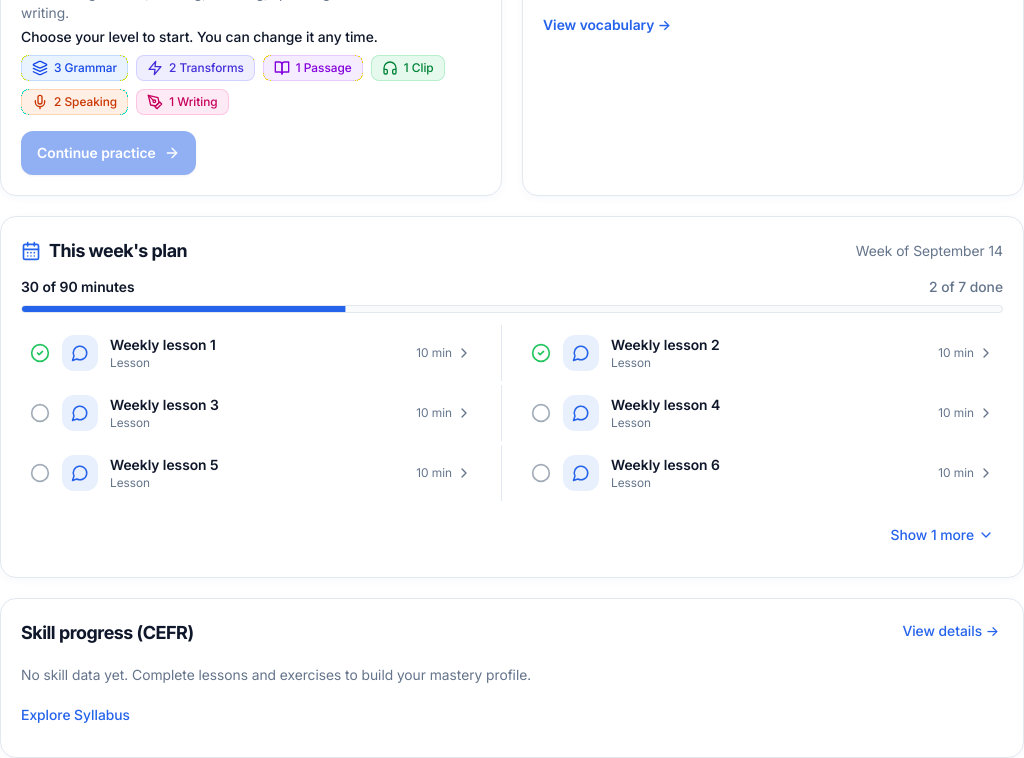
DashboardPage (P10.1) › keeps the weekly plan compact while allowing every lesson to be reached
(page scrolled)
Check: the number of links "Weekly lesson 1 Lesson 10 min" is 6, box [21, 324, 481, 380]; [522, 324, 1003, 380]; [21, 384, 481, 440]; [522, 384, 1003, 440]; [21, 444, 481, 500]; [522, 444, 1003, 500]
Click the button "Show 1 more" at (942, 534), box [882, 512, 1003, 556]
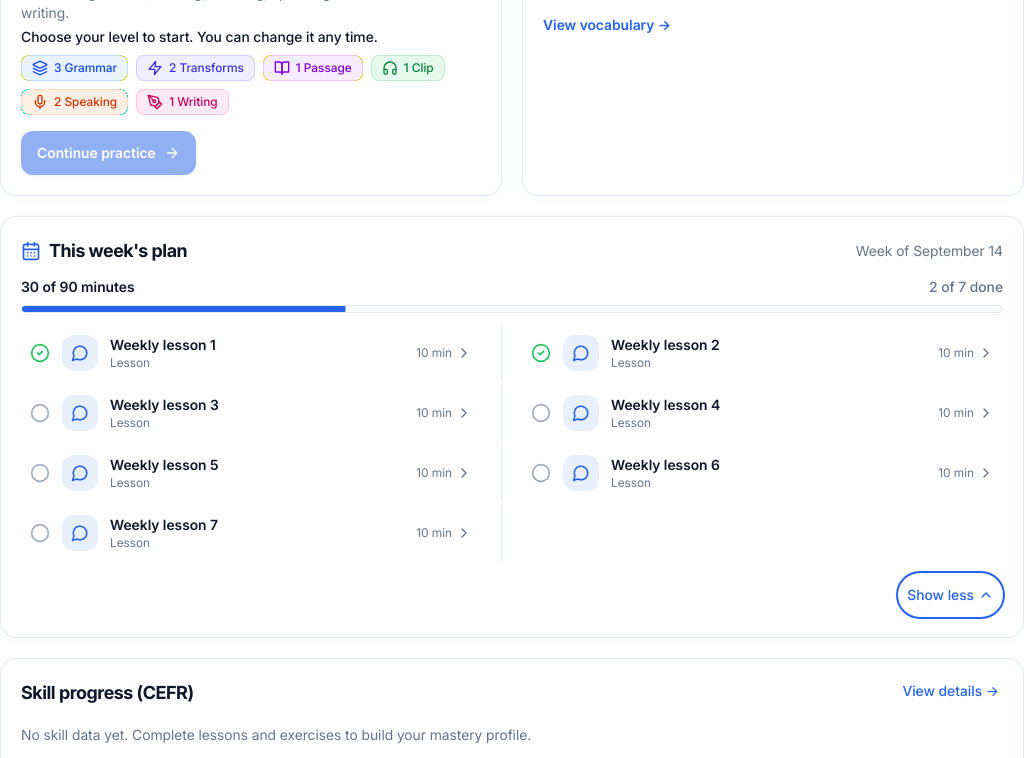
Check: the number of links "Weekly lesson 1 Lesson 10 min" is 7
Check: the button "Show less" is expanded
Click the button "Show less" at (951, 594), box [898, 572, 1003, 616]
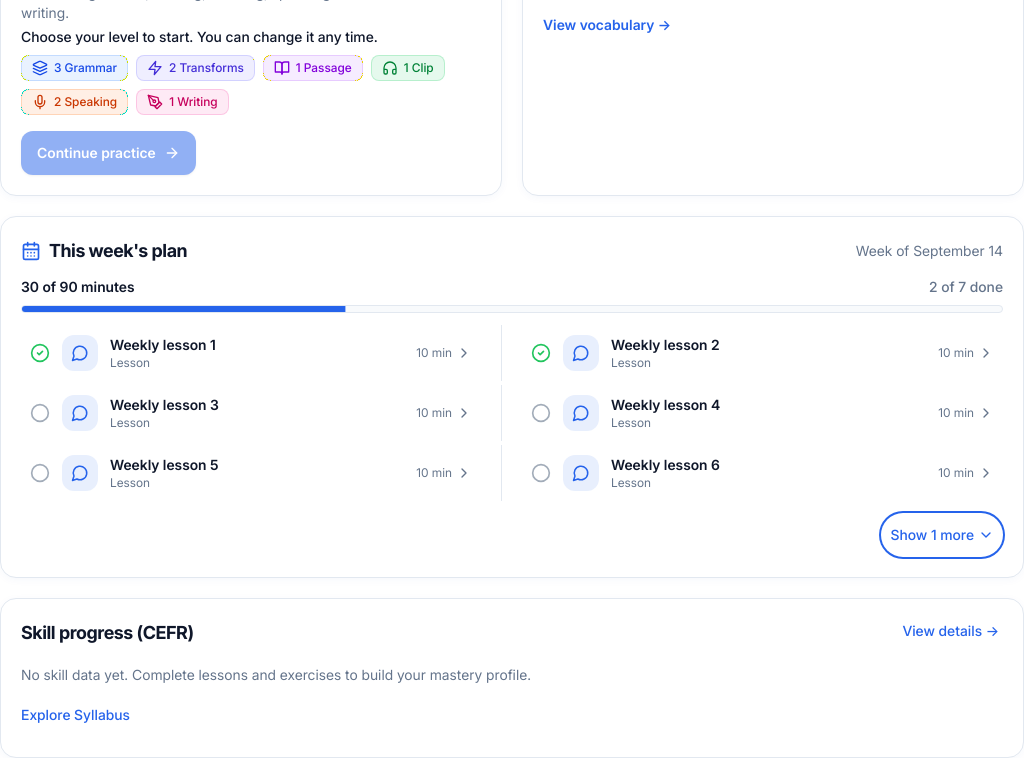
Check: the number of links "Weekly lesson 1 Lesson 10 min" is 6, box [21, 324, 481, 380]; [522, 324, 1003, 380]; [21, 384, 481, 440]; [522, 384, 1003, 440]; [21, 444, 481, 500]; [522, 444, 1003, 500]
